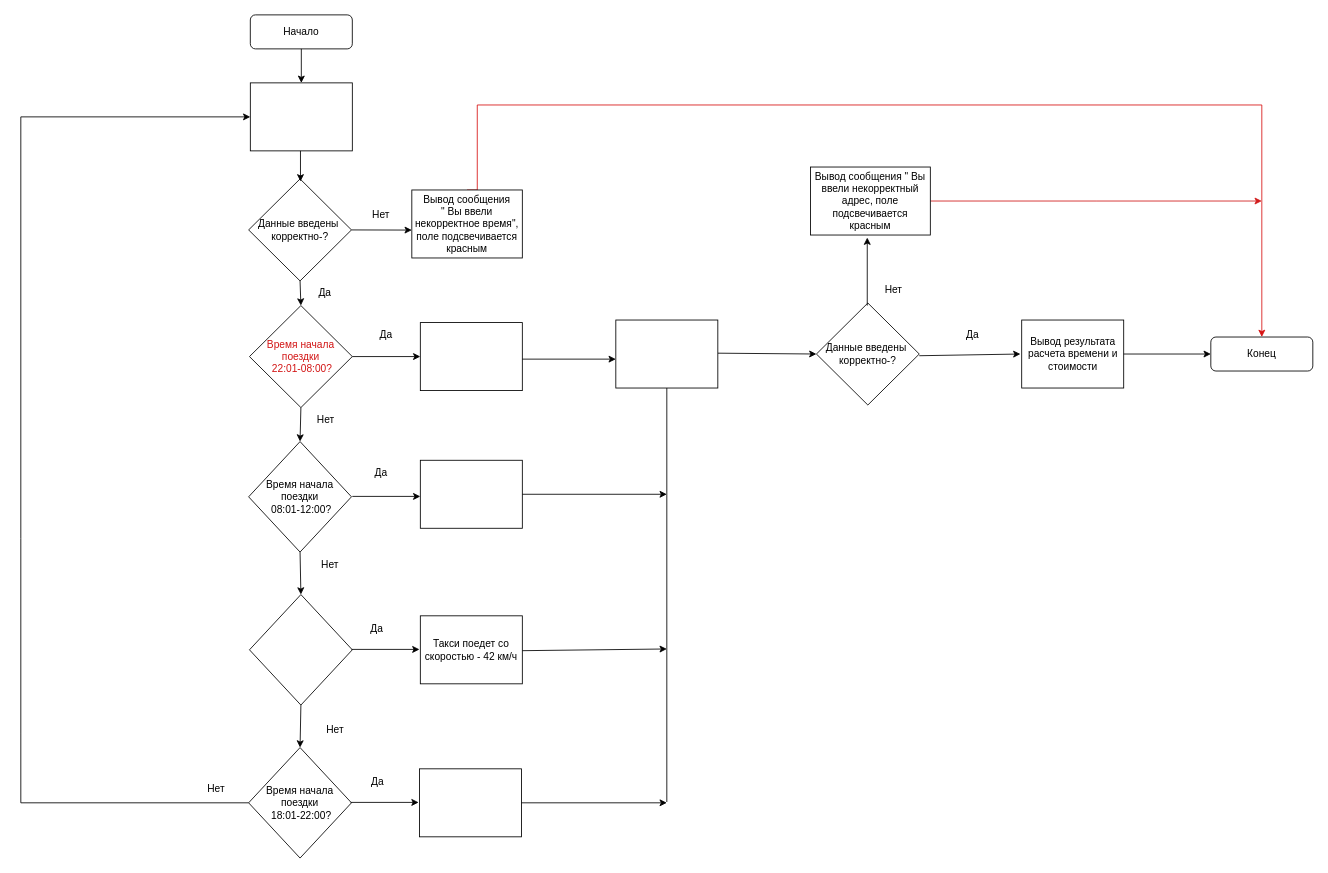
The diagram is 1328 pixels wide and 873 high, and some of its shapes have lost their labels. Each missing label, with the box of its shape:
Время начала поездки 12:01-18:00?: (249, 594, 352, 705)
Пользователь вводит время начала поездки: (249, 82, 352, 151)
Проверка полей ввода адреса поездки: (615, 319, 718, 388)
Такси поедет со скоростью - 30 км/ч: (419, 768, 521, 837)
Такси поедет со скоростью - 35 км/ч: (419, 459, 522, 528)
Такси поедет со скоростью - 50 км/ч: (419, 322, 522, 391)
